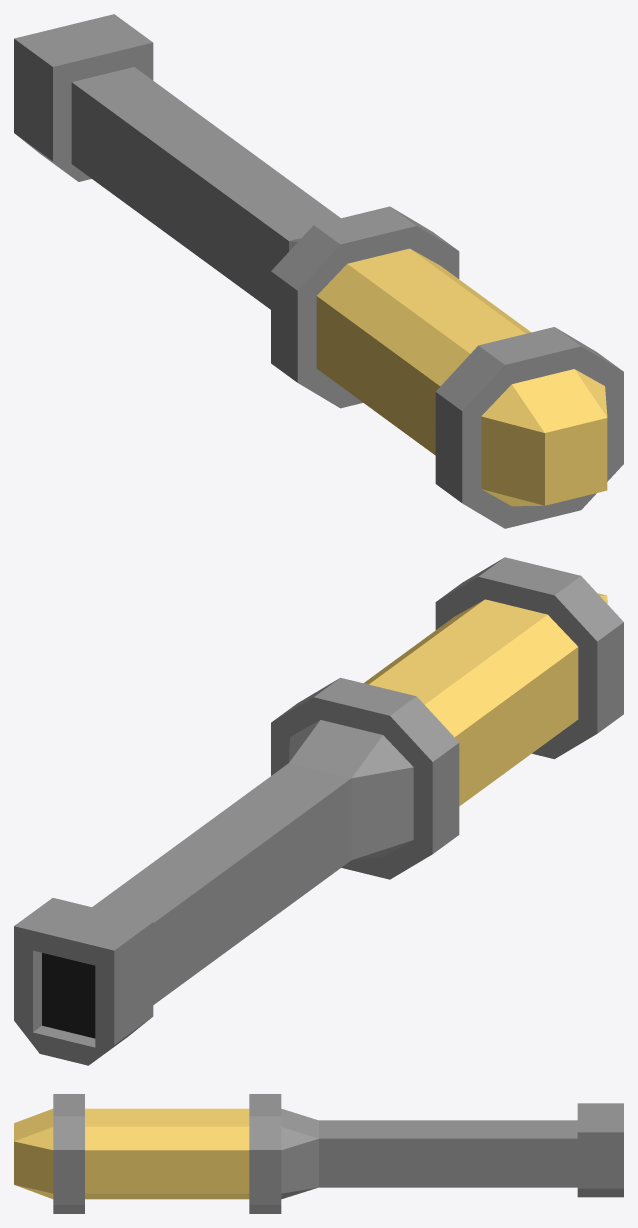
File: weapon.fbx
3 views of the same model, one above another, from view 1: azimuth 30°, elevation 25°; view 2: azimuth 150°, elevation 25°; view 3: azimuth 270°, elevation 25° (orthographic). The views are drawn at different scales.
Parts seen in each view (by area): view 1: Cube; view 2: Cube; view 3: Cube.
Boxes of the visible parts, <box> form: Cube: <box>14,14,623,528</box>; Cube: <box>14,557,623,1065</box>; Cube: <box>14,1094,623,1213</box>.
Size of the model in its own units: 15.34 by 14.86 by 84.12.
